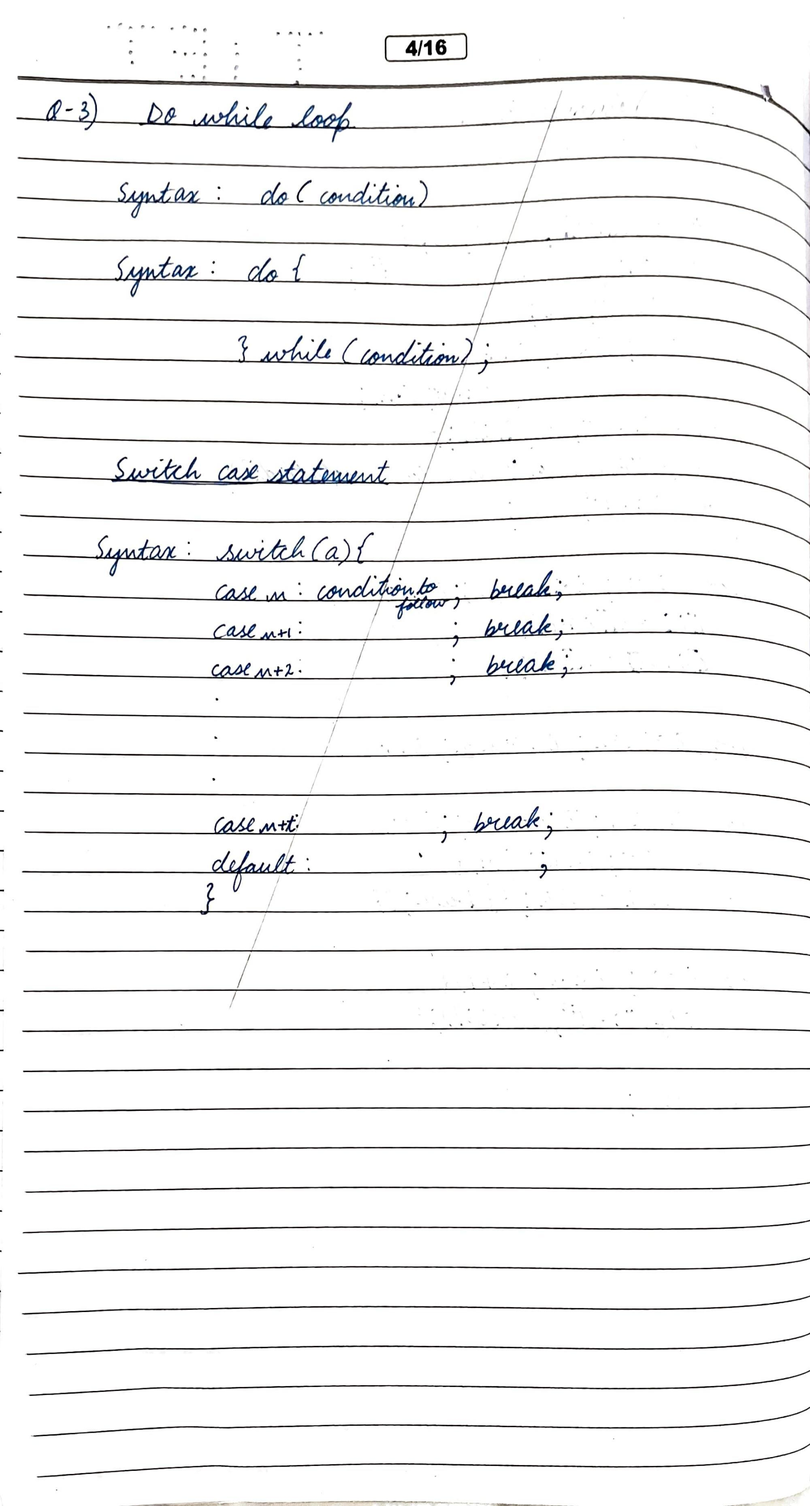cuttings: (42, 87, 575, 1010)
